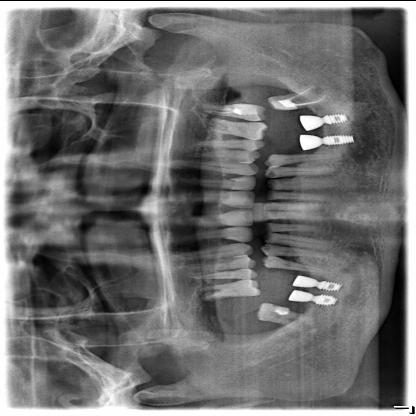Bicon: (320, 134, 354, 144), (315, 278, 342, 290), (320, 112, 347, 124), (312, 294, 336, 304)
